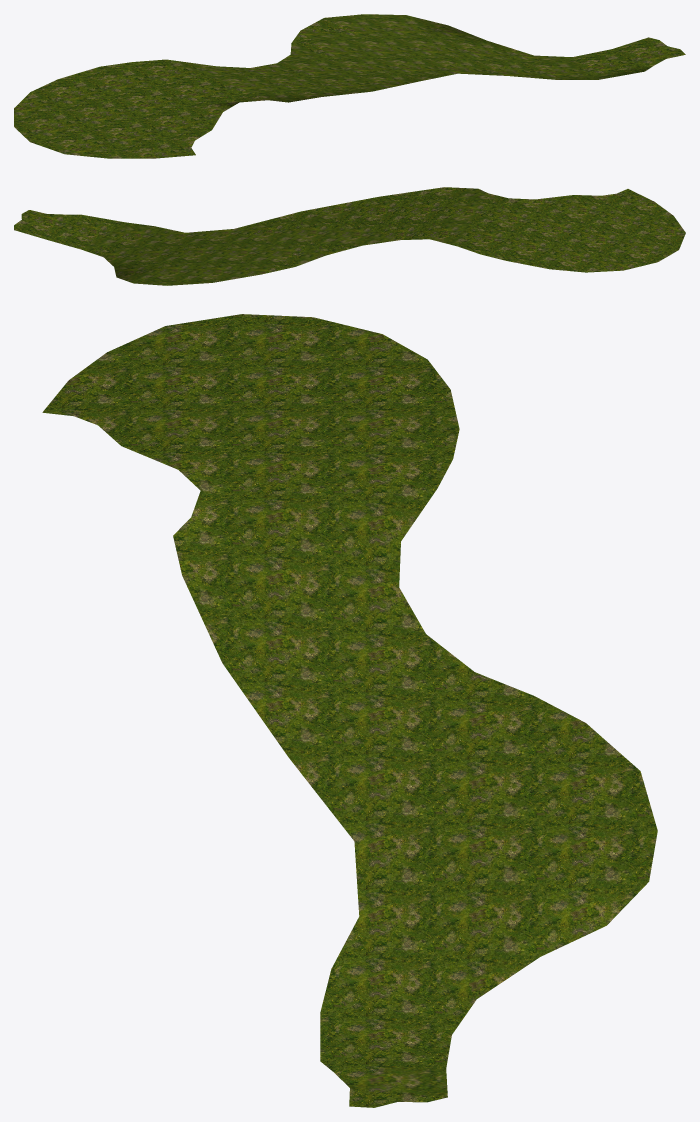
File: OVERHILL_A_01_LINE07.fbx
3 views of the same model, one above another, from view 1: azimuth 30°, elevation 25°; view 2: azimuth 150°, elevation 25°; view 3: azimuth 270°, elevation 25° (orthographic). The views are drawn at different scales.
Parts seen in each view (by area): view 1: OVERHILL_A_01_LINE07; view 2: OVERHILL_A_01_LINE07; view 3: OVERHILL_A_01_LINE07.
Part boxes in pixels (left/top/right/bottom): OVERHILL_A_01_LINE07: left=14, top=14, right=685, bottom=158; OVERHILL_A_01_LINE07: left=14, top=187, right=685, bottom=285; OVERHILL_A_01_LINE07: left=42, top=314, right=657, bottom=1107.
Size of the model in its own units: 284413 by 41064 by 121425.
1 material, 1 textured.
